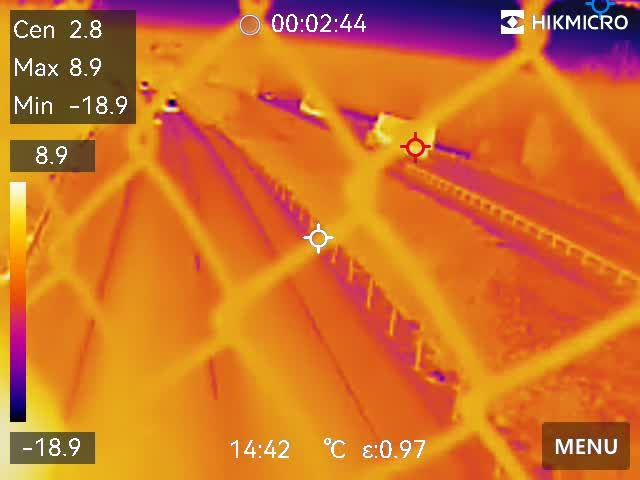heavyTruck: (358, 108, 436, 159), (299, 84, 346, 126)
vehicle: (155, 92, 186, 116)
